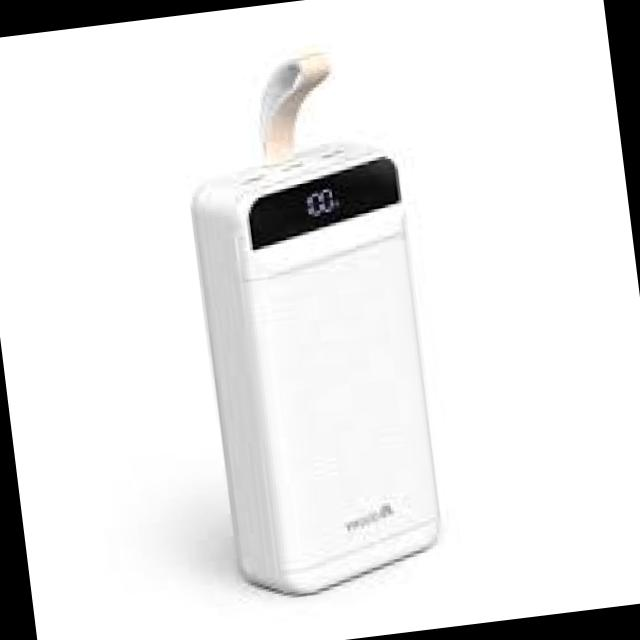power_bank: (184, 137, 456, 602)
